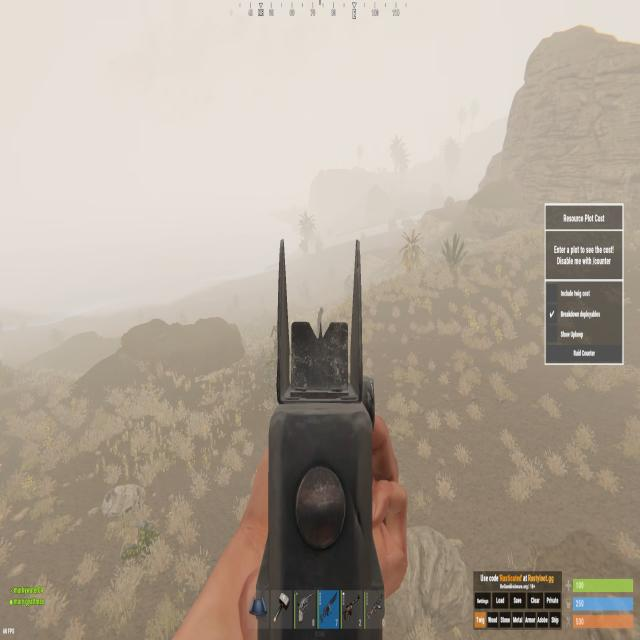Player: (316, 304, 325, 338)
